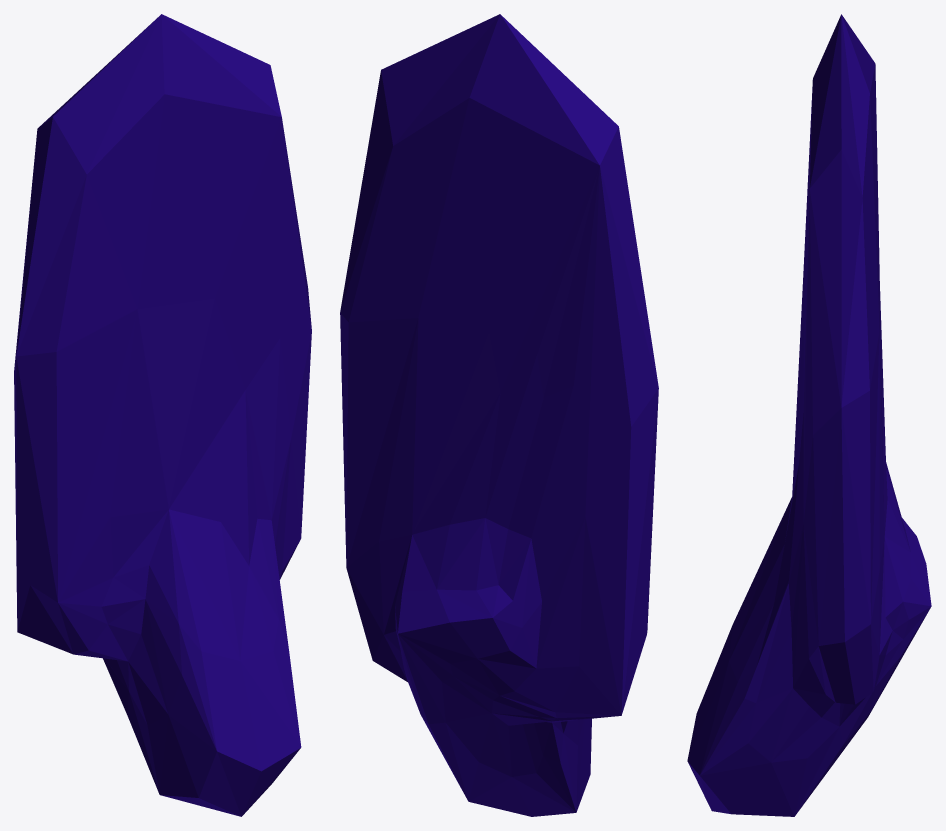
3 renders of one model, left to right at view 1: azimuth 30°, elevation 25°; view 2: azimuth 150°, elevation 25°; view 3: azimuth 270°, elevation 25°, orthographic. The views are drawn at different scales.
Parts seen in each view (by area): view 1: 266_Cube.1090; view 2: 266_Cube.1090; view 3: 266_Cube.1090.
Part boxes in pixels (<box>): 266_Cube.1090: <box>14,14,311,816</box>; 266_Cube.1090: <box>340,14,658,816</box>; 266_Cube.1090: <box>687,14,931,816</box>.
Bounding box in the file's own units: 5.96 × 14.89 × 4.18.
